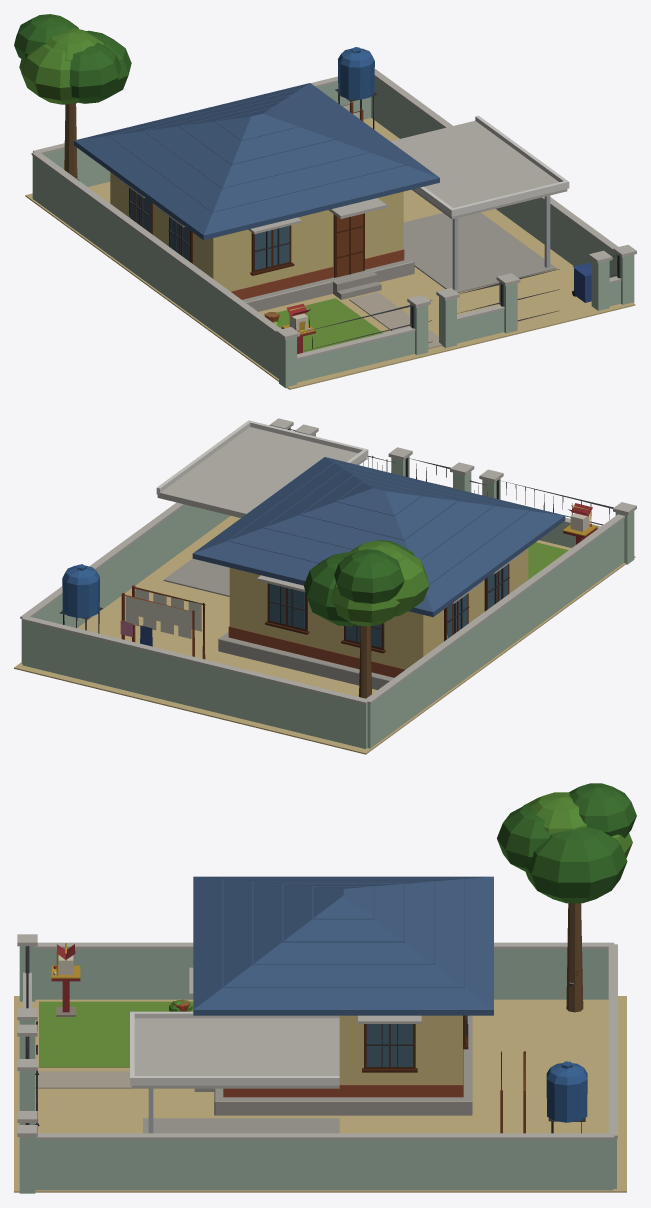
File: house12_1.glb
The picture shows the model from 3 angles, top to bottom: view 1: azimuth 30°, elevation 25°; view 2: azimuth 150°, elevation 25°; view 3: azimuth 270°, elevation 25°; orthographic projection. The views are drawn at different scales.
Visible parts, largest first — view 1: body, windows; view 2: body, windows; view 3: body, windows.
Boxes of the visible parts, x1,y1,x2,y2 form: body: [14, 14, 636, 389]; windows: [130, 188, 289, 270]; body: [14, 418, 636, 754]; windows: [269, 564, 508, 647]; body: [14, 783, 636, 1193]; windows: [366, 1016, 465, 1066].
Bounding box in the file's own units: 13.02 × 6.46 × 16.16.
